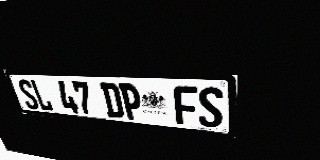4: (55, 81, 80, 114)
7: (71, 81, 96, 116)
D: (99, 82, 125, 119)
F: (173, 85, 198, 126)
L: (29, 80, 54, 111)
P: (118, 83, 144, 120)
S: (198, 86, 223, 128), (16, 79, 41, 110)
